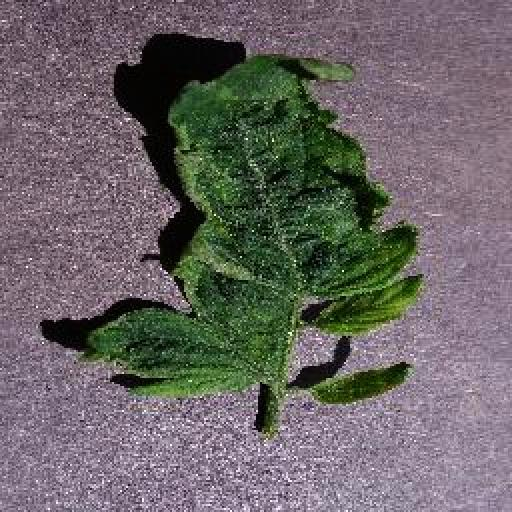Mosaic Virus: (70, 50, 428, 404)
